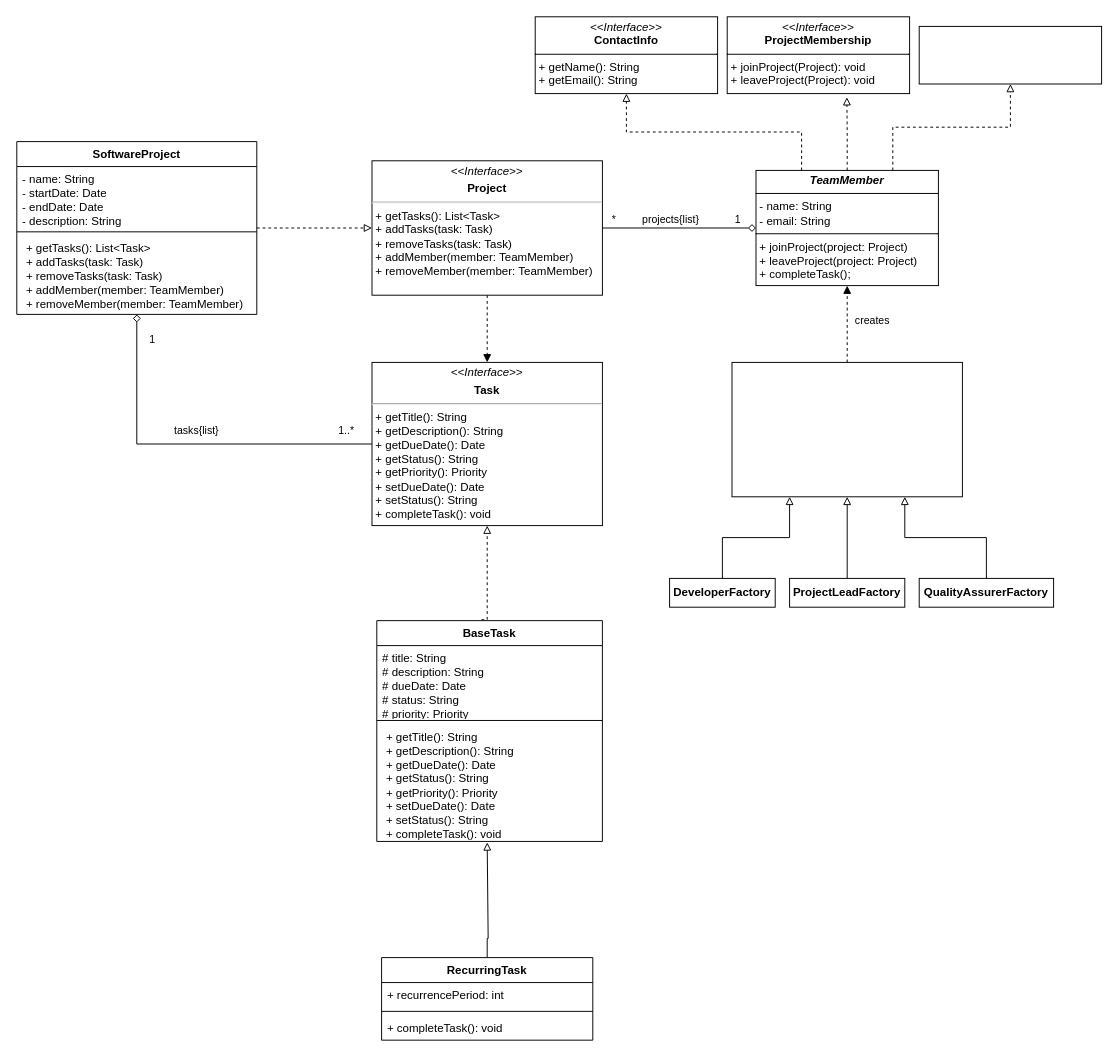
Some shapes in this 1118 by 1060 pixel diagram are drawn without their labels. The shapes that lost their labels are listed below. From the top down, each one's centre as x and y in pixels, then its label:
the point at 1010,54: <<Interface>> TaskCompletion + completeTask(): void
the point at 846,429: TeamMemberFactory + createTeamMember(name: String, email: String): TeamMember
